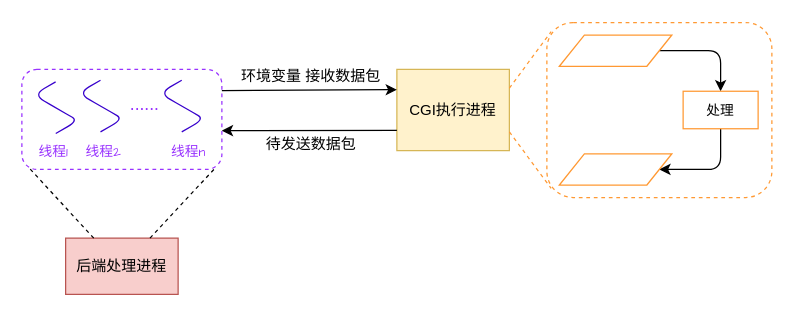
Image size: 794x316. Some labels were removed from this diagram. The centre of each missing label's shape, as x and y in pixels:
标准输入: the point at 615,50
标准输出: the point at 615,168
